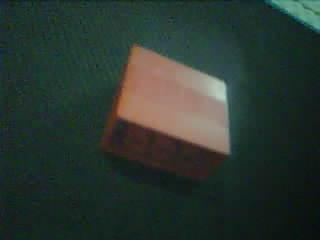lego: (96, 41, 233, 185)
